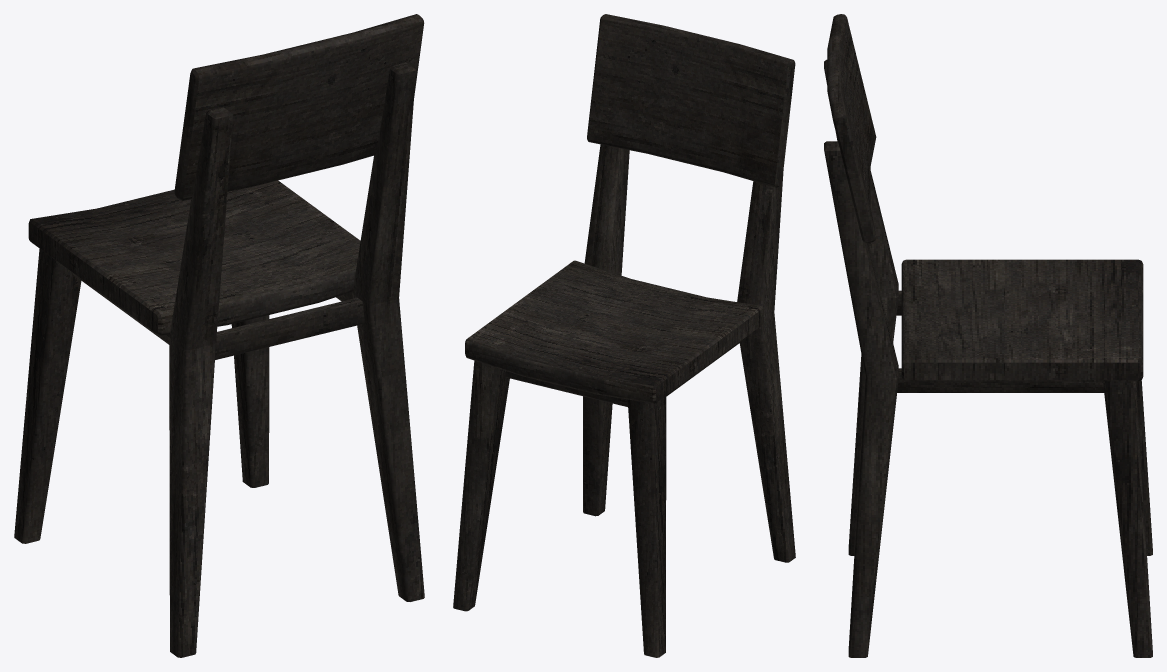
The model's file is chair_wooden_1.glb.
3 renders of one model, left to right at view 1: azimuth 30°, elevation 25°; view 2: azimuth 150°, elevation 25°; view 3: azimuth 270°, elevation 25°, orthographic. The views are drawn at different scales.
Visible parts, largest first — view 1: chair_wooden_1; view 2: chair_wooden_1; view 3: chair_wooden_1.
Boxes of the visible parts, x1=… form: chair_wooden_1: x1=14, y1=14, x2=424, y2=657; chair_wooden_1: x1=453, y1=14, x2=795, y2=657; chair_wooden_1: x1=824, y1=14, x2=1152, y2=657.
Size of the model in its own units: 0.54 by 1.23 by 0.6805.
Materials: 1 (1 with a texture image).
